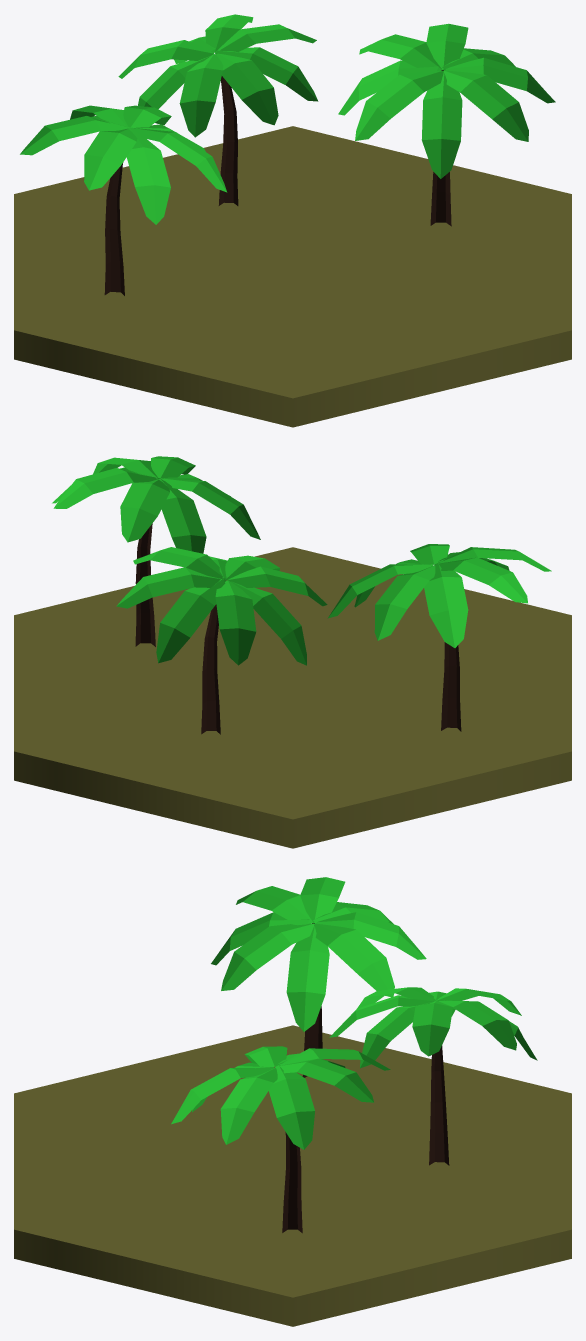
The model's file is Tile_11.FBX.
3 views of the same model, one above another, from view 1: azimuth 30°, elevation 25°; view 2: azimuth 150°, elevation 25°; view 3: azimuth 270°, elevation 25° (orthographic).
Parts seen in each view (by area): view 1: Ground; view 2: Ground; view 3: Ground.
Boxes of the visible parts, left/top/right/bottom form: Ground: left=14, top=14, right=571, bottom=427; Ground: left=14, top=456, right=571, bottom=848; Ground: left=14, top=877, right=571, bottom=1326.
Size of the model in its own units: 39.37 by 13.93 by 34.1.
